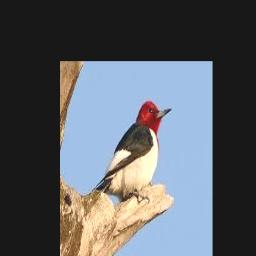Woodpecker: (95, 101, 171, 197)
